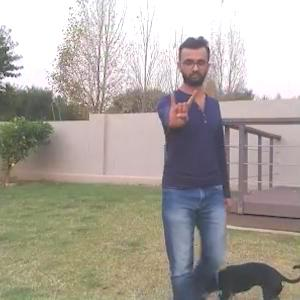takeoff-hand: (160, 78, 202, 129)
